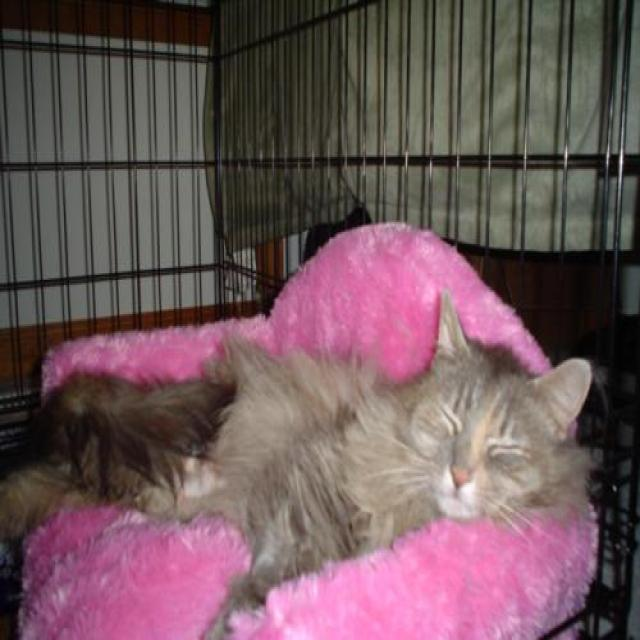Cats: (0, 288, 600, 638)
